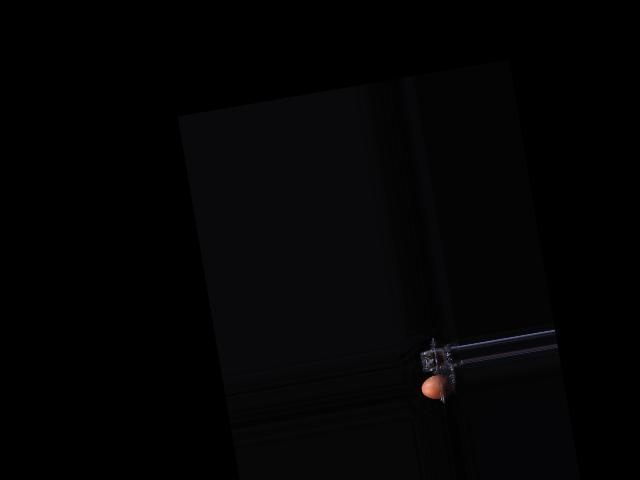egg: (420, 373, 455, 402)
